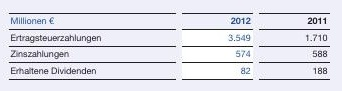table: (0, 0, 342, 91)
